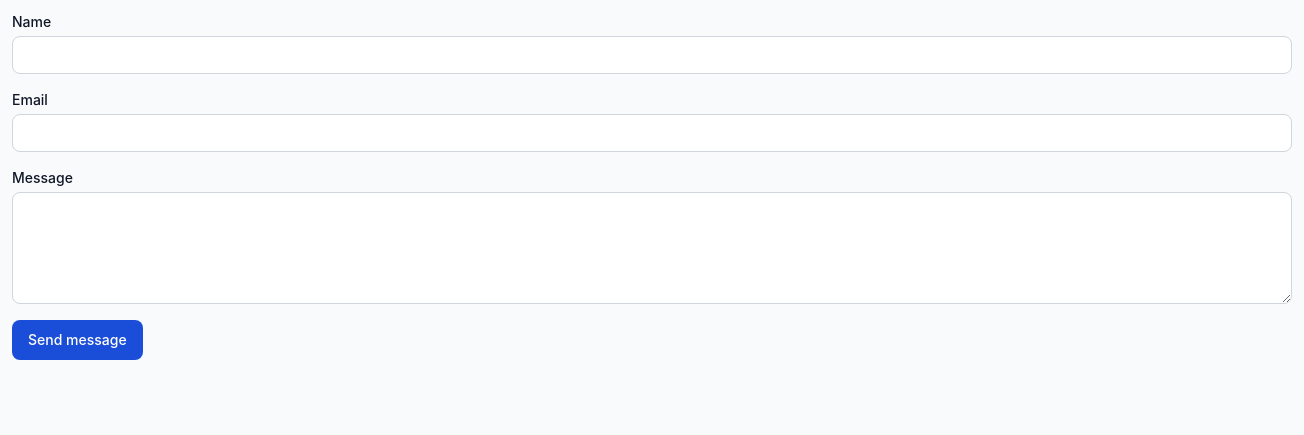
Test: ContactForm › shows server-side field errors next to the right field
What coordinates should you click on to do the following:
click the button "Send message"
I would click on:
 (77, 340)
Its box is [12, 320, 143, 360].
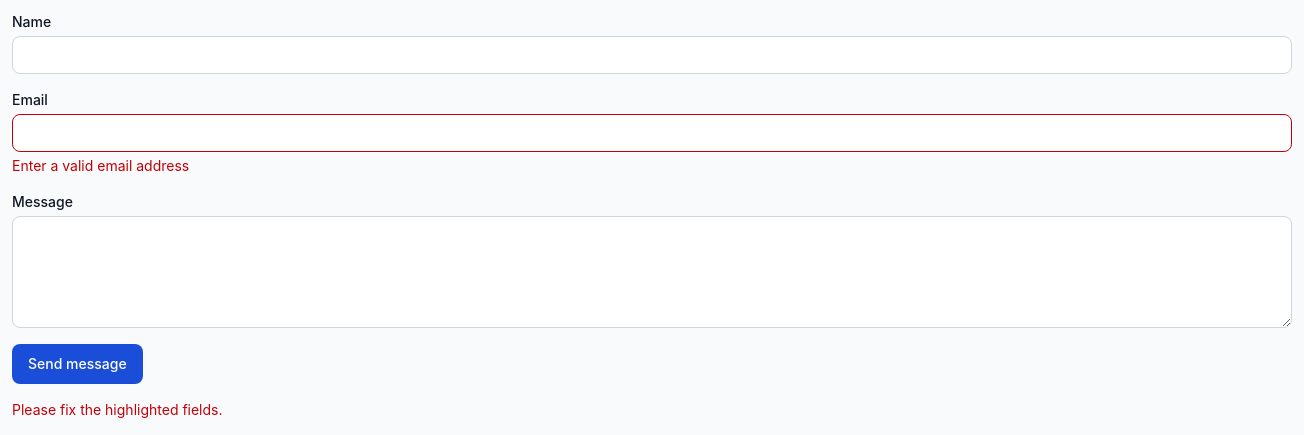
expect the message reads "Please fix the highlighted fields.": met, box [12, 401, 222, 418]
